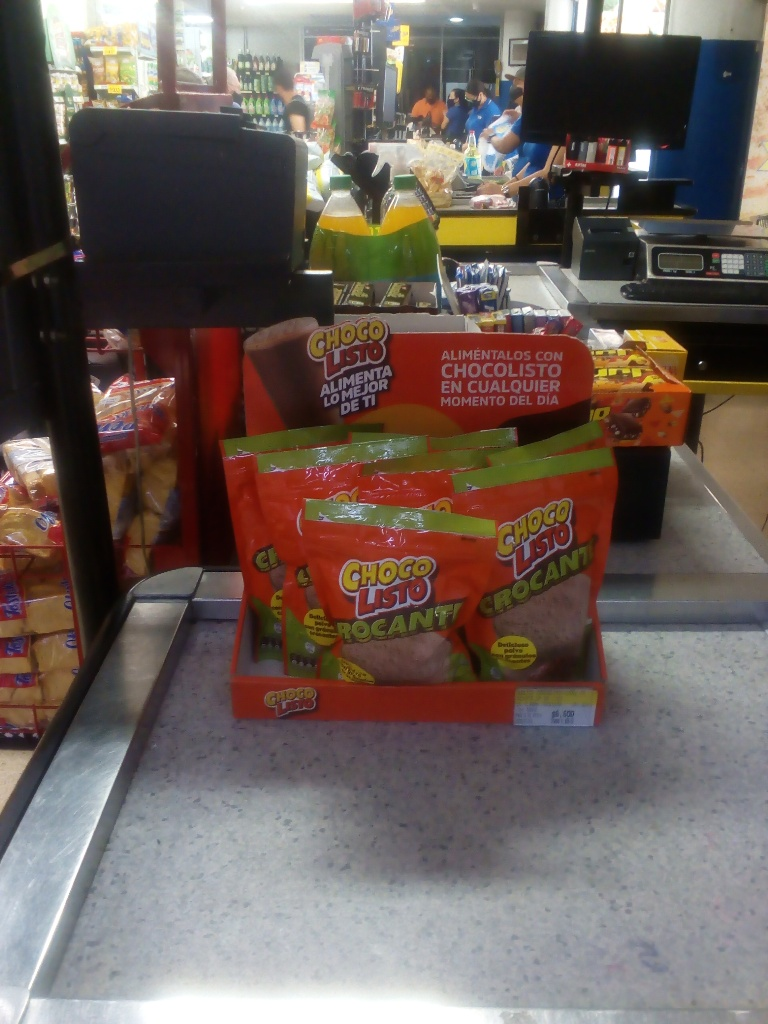COL0170102DYP10000: (312, 502, 488, 686)
